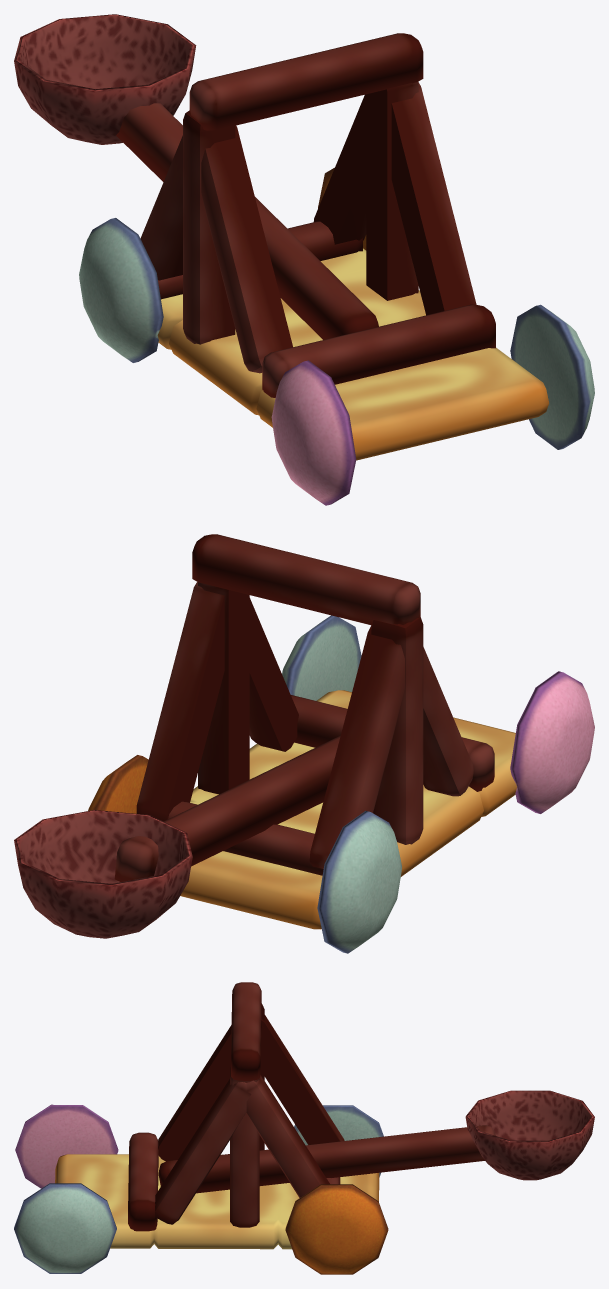
File: Mod_Catapulte.gltf
3 views of the same model, one above another, from view 1: azimuth 30°, elevation 25°; view 2: azimuth 150°, elevation 25°; view 3: azimuth 270°, elevation 25° (orthographic). The views are drawn at different scales.
Parts seen in each view (by area): view 1: Capatulpe; view 2: Capatulpe; view 3: Capatulpe.
Boxes of the visible parts, left/top/right/bottom form: Capatulpe: left=14, top=14, right=594, bottom=505; Capatulpe: left=14, top=534, right=594, bottom=953; Capatulpe: left=14, top=982, right=594, bottom=1274.
Bounding box in the file's own units: 3.69 × 3.86 × 9.32.
1 material, 1 textured.
